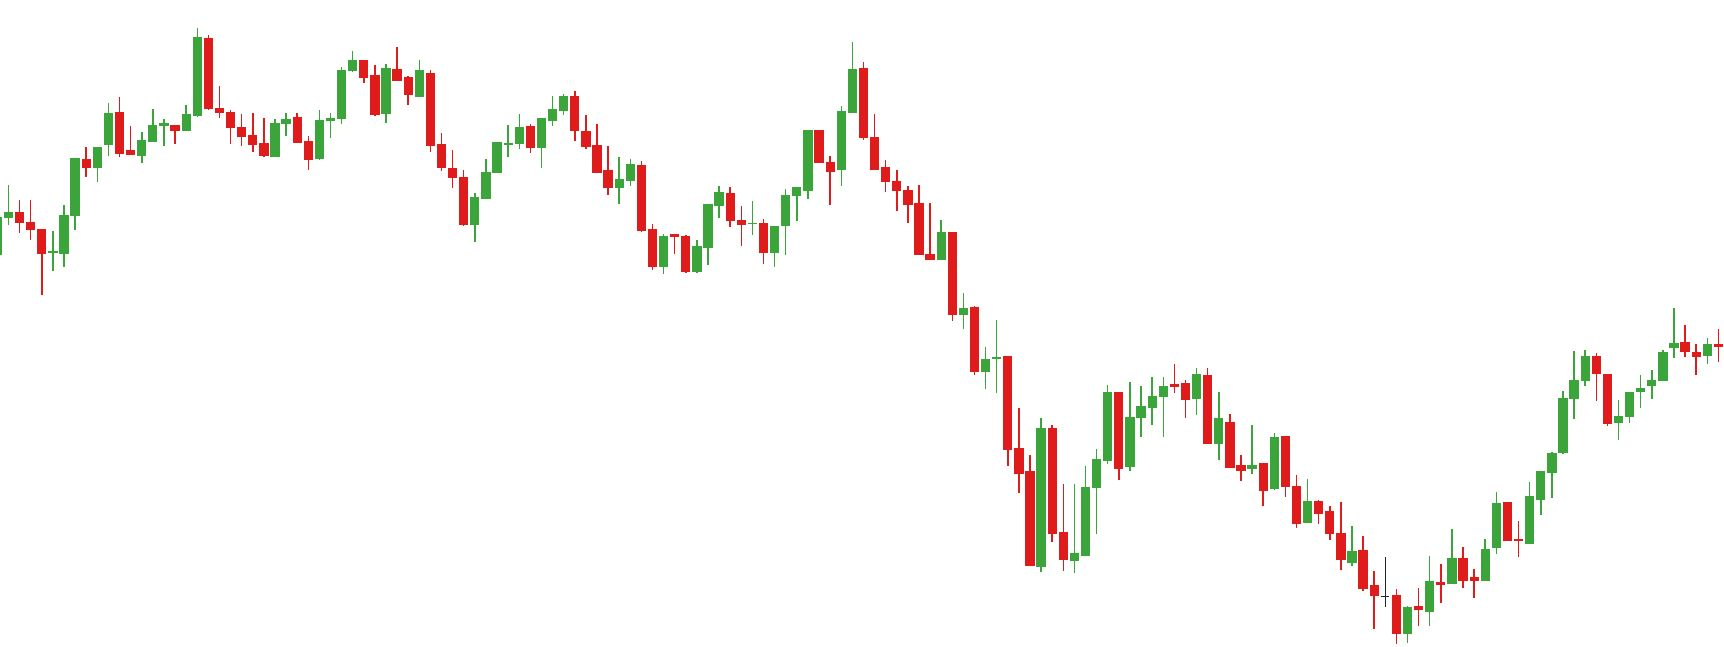sell: (346, 39, 405, 99)
